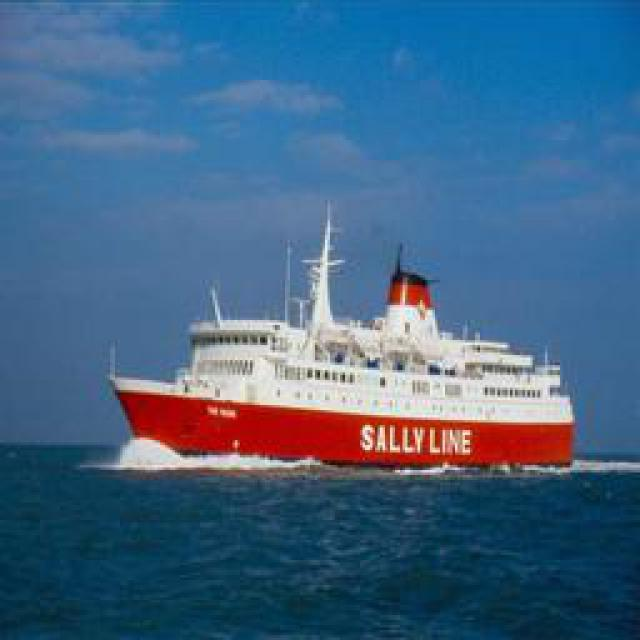Ship: (113, 216, 578, 476)
